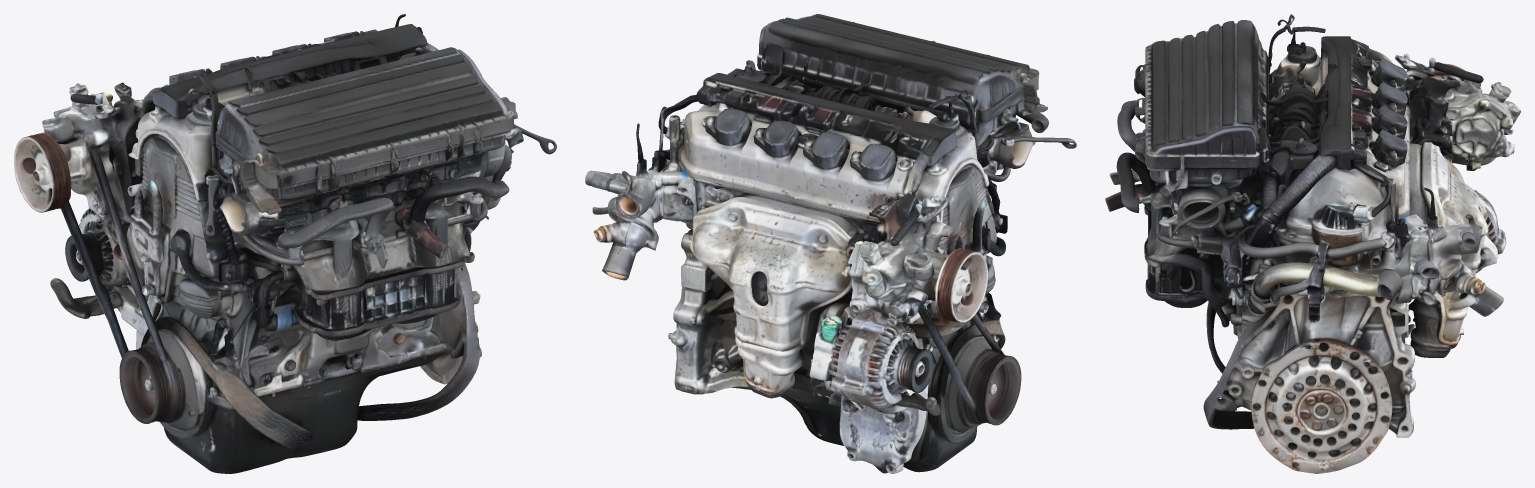
The model's file is motor_seccionado_shaded.glb.
The picture shows the model from 3 angles, left to right: view 1: azimuth 30°, elevation 25°; view 2: azimuth 150°, elevation 25°; view 3: azimuth 270°, elevation 25°; orthographic projection. The views are drawn at different scales.
Parts seen in each view (by area): view 1: pieza_10, pieza_01, pieza_05, pieza_11, pieza_08, pieza_02, pieza_12, pieza_04, pieza_06, pieza_09; view 2: pieza_08, pieza_12, pieza_07, pieza_10, pieza_03, pieza_01, pieza_04, pieza_02, pieza_11, pieza_09, pieza_05; view 3: pieza_02, pieza_11, pieza_09, pieza_07, pieza_12, pieza_06, pieza_08, pieza_10, pieza_03, pieza_04, pieza_01.
Part boxes in pixels (box(x1,y1,x2,y2)): pieza_10: box(162, 75, 393, 265); pieza_01: box(111, 262, 340, 473); pieza_05: box(147, 215, 410, 372); pieza_11: box(352, 47, 556, 259); pieza_08: box(14, 71, 190, 266); pieza_02: box(330, 291, 481, 448); pieza_12: box(175, 32, 387, 105); pieza_04: box(50, 206, 163, 349); pieza_06: box(360, 175, 500, 348); pieza_09: box(336, 24, 513, 180); pieza_08: box(787, 132, 987, 333); pieza_12: box(717, 41, 939, 230); pieza_07: box(585, 123, 768, 312); pieza_10: box(889, 41, 1076, 229); pieza_03: box(715, 222, 862, 456); pieza_01: box(825, 302, 1021, 473); pieza_04: box(804, 276, 977, 430); pieza_02: box(668, 286, 832, 442); pieza_11: box(746, 14, 935, 90); pieza_09: box(648, 64, 781, 170); pieza_05: box(971, 183, 1007, 310); pieza_02: box(1203, 306, 1415, 473); pieza_11: box(1105, 72, 1289, 244); pieza_09: box(1246, 127, 1407, 322); pieza_07: box(1332, 153, 1503, 359); pieza_12: box(1219, 28, 1446, 185); pieza_06: box(1144, 228, 1332, 377); pieza_08: box(1334, 36, 1520, 182); pieza_10: box(1109, 14, 1342, 182); pieza_03: box(1391, 167, 1488, 377); pieza_04: box(1408, 190, 1506, 311); pieza_01: box(1206, 302, 1412, 377).
Bounding box in the file's own units: 1.9 × 1.75 × 1.77.
1 material, 1 textured.
